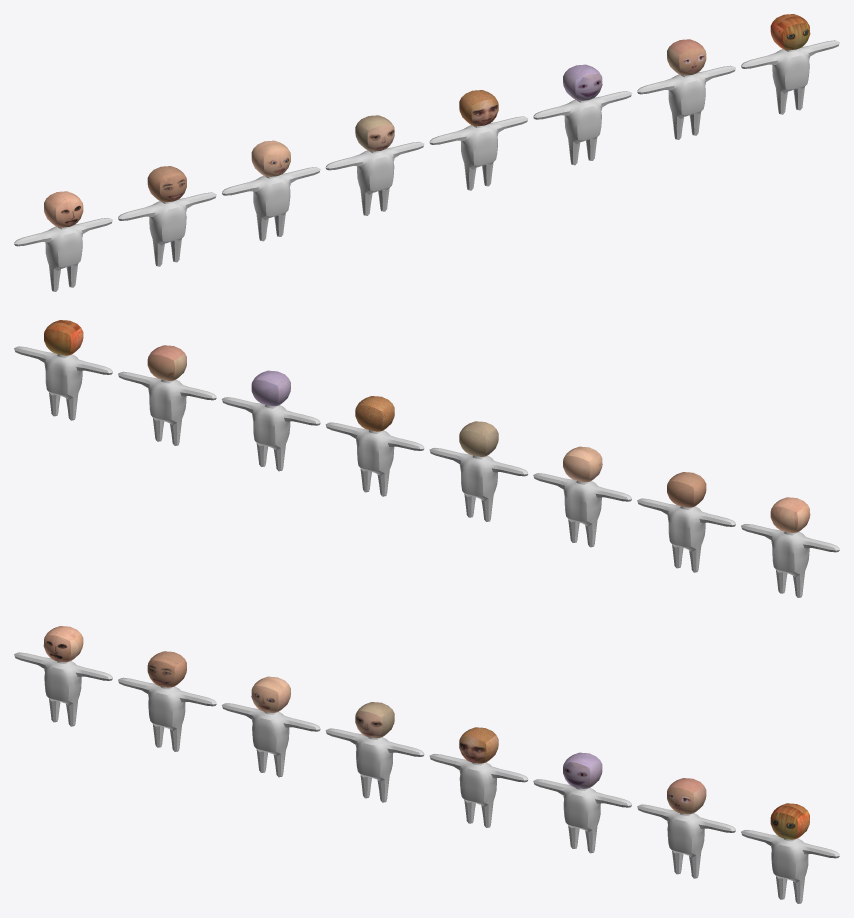
File: All NPC.fbx
3 renders of one model, top to bottom at view 1: azimuth 30°, elevation 25°; view 2: azimuth 150°, elevation 25°; view 3: azimuth 330°, elevation 25°, orthographic.
Parts seen in each view (by area): view 1: GuyBody.006, GuyBody.007, GuyBody.001, GuyBody.002, GuyBody.003, GuyBody.008, GuyBody.005, GuyBody.004, GuyHead.006, GuyHead.007, GuyHead.004, GuyHead.008 (+4 smaller); view 2: GuyBody.007, GuyBody.001, GuyBody.006, GuyBody.003, GuyBody.004, GuyBody.005, GuyBody.002, GuyBody.008, GuyHead.006, GuyHead.010, GuyHead.007, GuyHead.005 (+4 smaller); view 3: GuyBody.002, GuyBody.003, GuyBody.008, GuyBody.006, GuyBody.007, GuyBody.001, GuyBody.004, GuyBody.005, GuyHead.007, GuyHead.006, GuyHead.005, GuyHead.009 (+4 smaller).
Part boxes in pixels (box(x1,y1,x2,y2)): GuyBody.006: box(222, 167, 320, 241); GuyBody.007: box(118, 192, 216, 266); GuyBody.001: box(741, 40, 839, 114); GuyBody.002: box(637, 65, 735, 139); GuyBody.003: box(533, 91, 632, 165); GuyBody.008: box(14, 218, 112, 291); GuyBody.005: box(325, 142, 424, 215); GuyBody.004: box(429, 116, 528, 190); GuyHead.006: box(459, 90, 498, 126); GuyHead.007: box(355, 115, 394, 151); GuyHead.004: box(667, 39, 706, 75); GuyHead.008: box(251, 140, 290, 176); GuyBody.007: box(637, 498, 735, 572); GuyBody.001: box(14, 346, 112, 420); GuyBody.006: box(533, 473, 631, 547); GuyBody.003: box(221, 397, 320, 471); GuyBody.004: box(325, 422, 424, 496); GuyBody.005: box(429, 448, 528, 521); GuyBody.002: box(118, 371, 216, 445); GuyBody.008: box(741, 524, 839, 597); GuyHead.006: box(355, 396, 394, 431); GuyHead.010: box(770, 497, 810, 532); GuyHead.007: box(459, 421, 498, 456); GuyHead.005: box(251, 370, 290, 406); GuyBody.002: box(637, 804, 735, 878); GuyBody.003: box(533, 779, 631, 853); GuyBody.008: box(14, 652, 112, 726); GuyBody.006: box(221, 703, 320, 777); GuyBody.007: box(118, 677, 216, 751); GuyBody.001: box(741, 830, 839, 903); GuyBody.004: box(429, 754, 528, 827); GuyBody.005: box(325, 728, 424, 802); GuyHead.007: box(355, 702, 394, 738); GuyHead.006: box(459, 727, 498, 763); GuyHead.005: box(563, 752, 602, 788); GuyHead.009: box(147, 651, 186, 687).
Size of the model in its own units: 6364 by 703 by 236.
